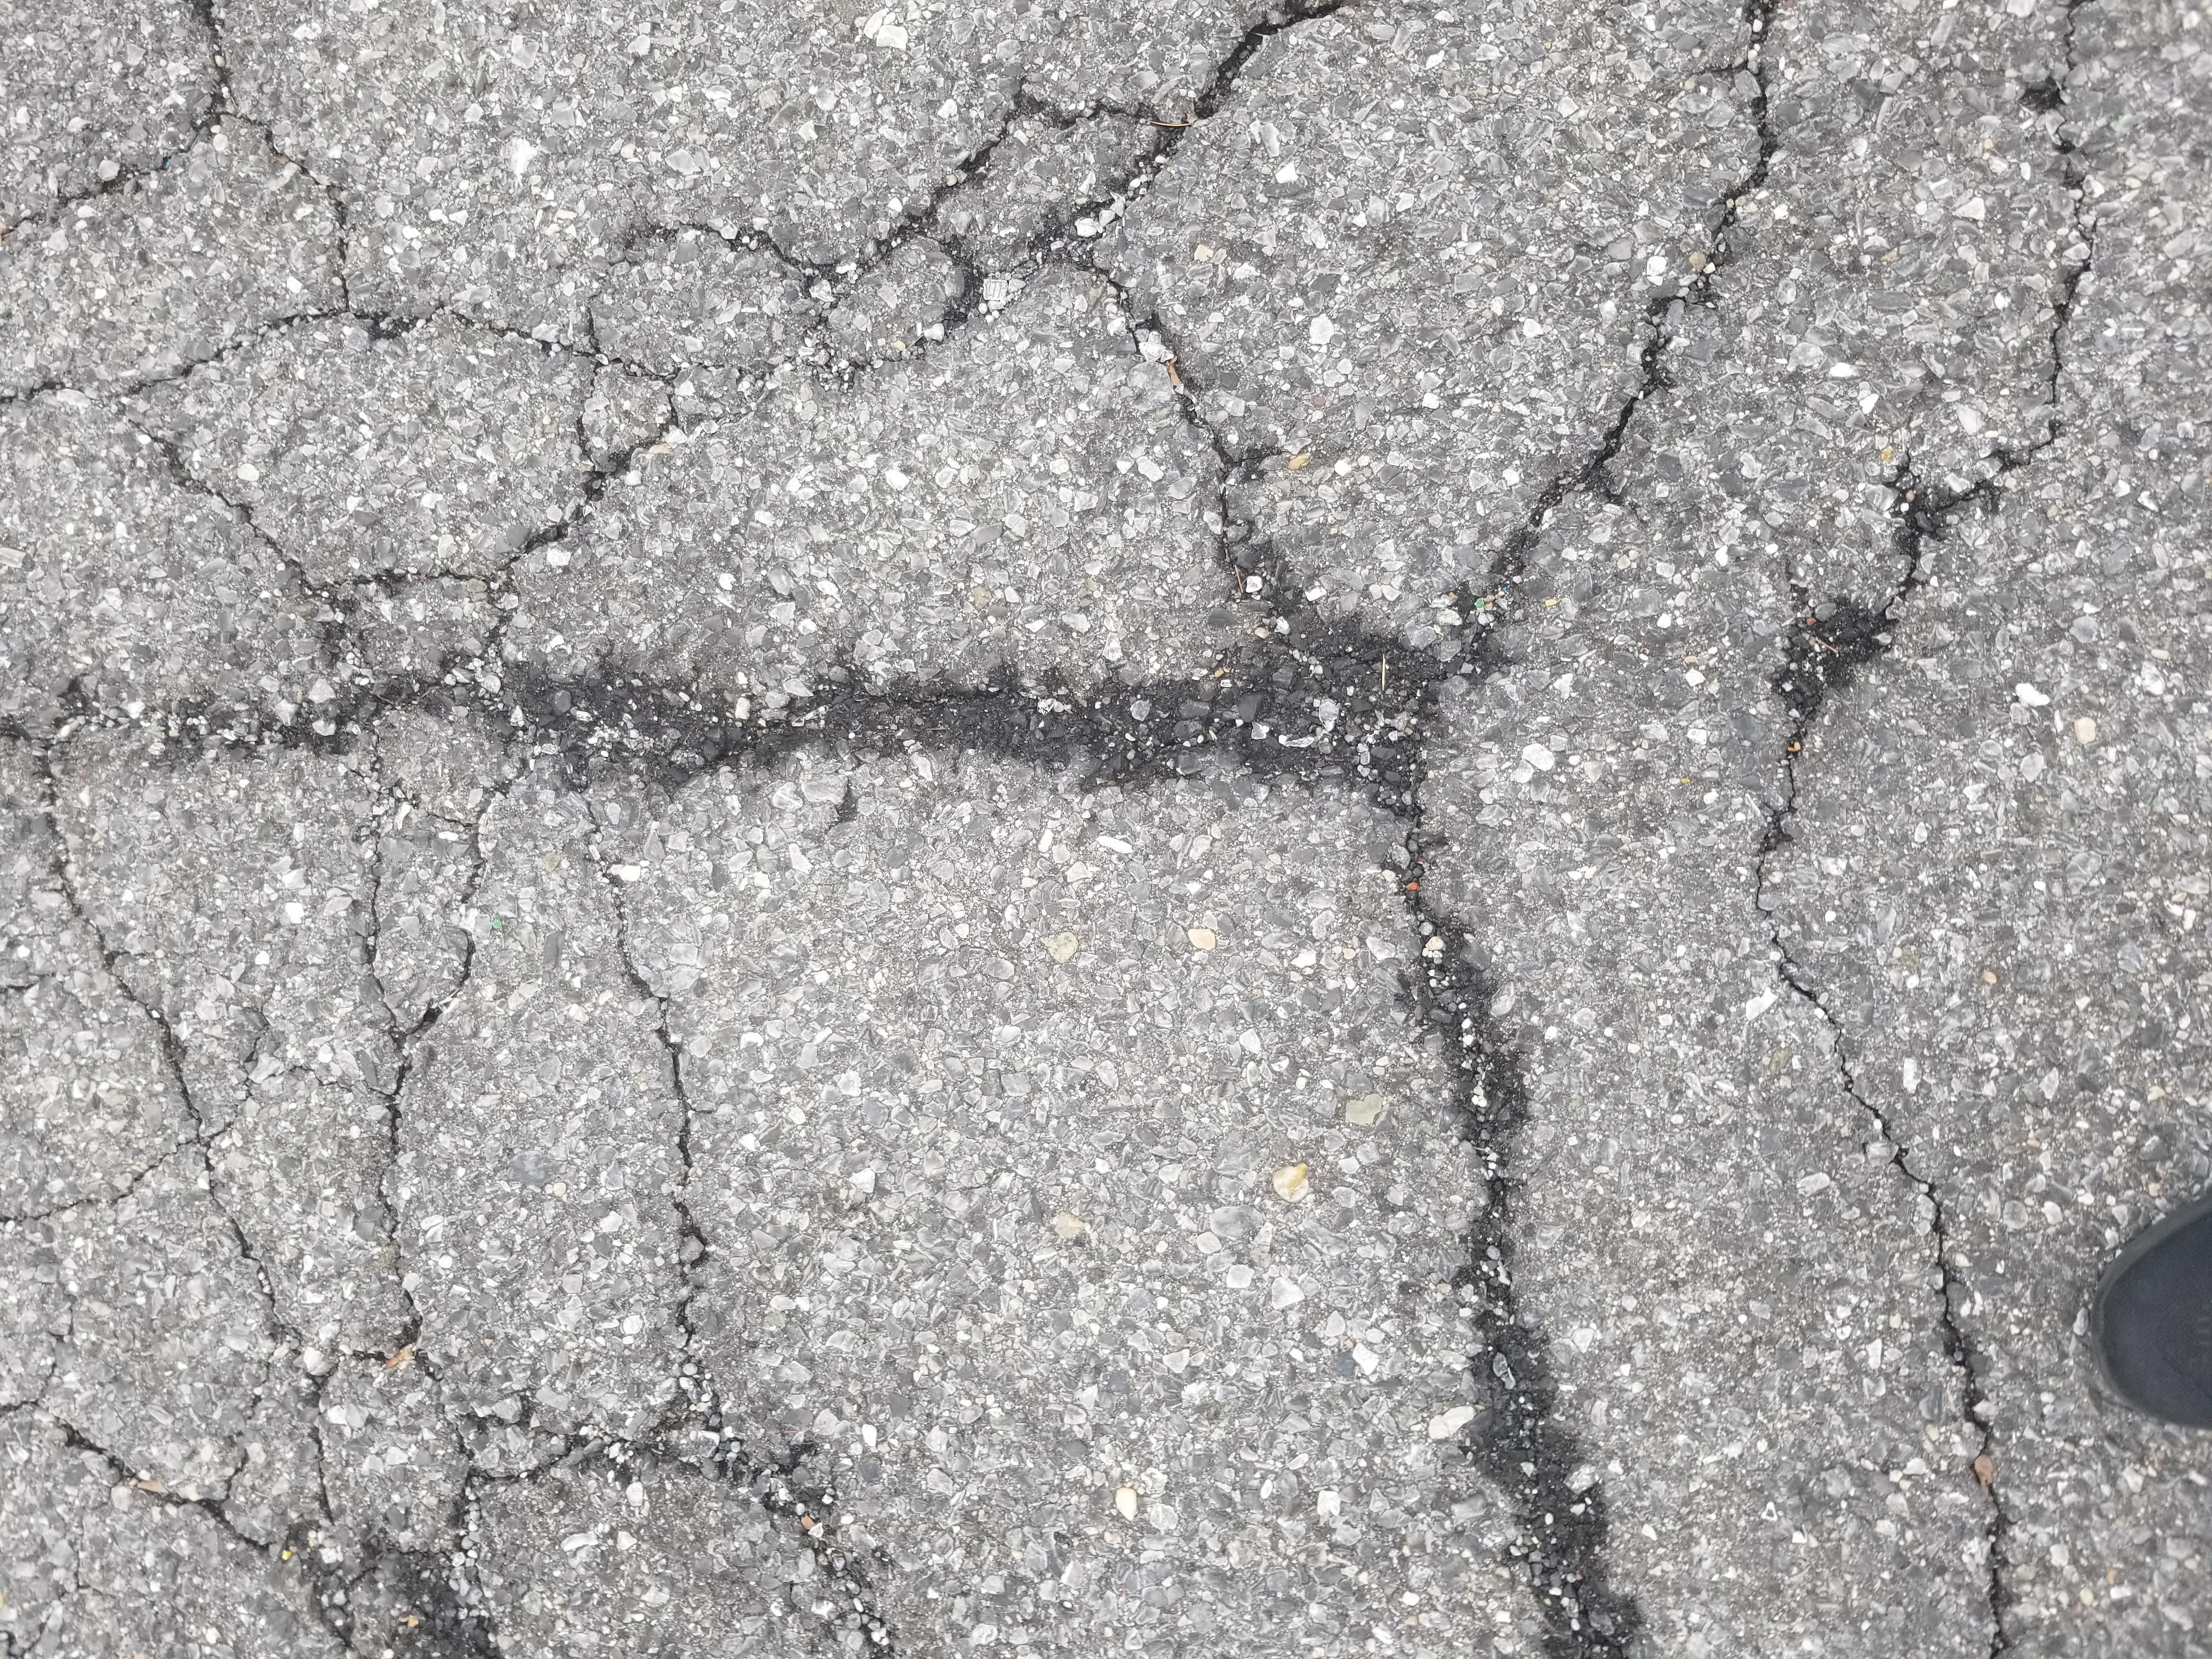alligator-crack: (7, 16, 2209, 1652)
